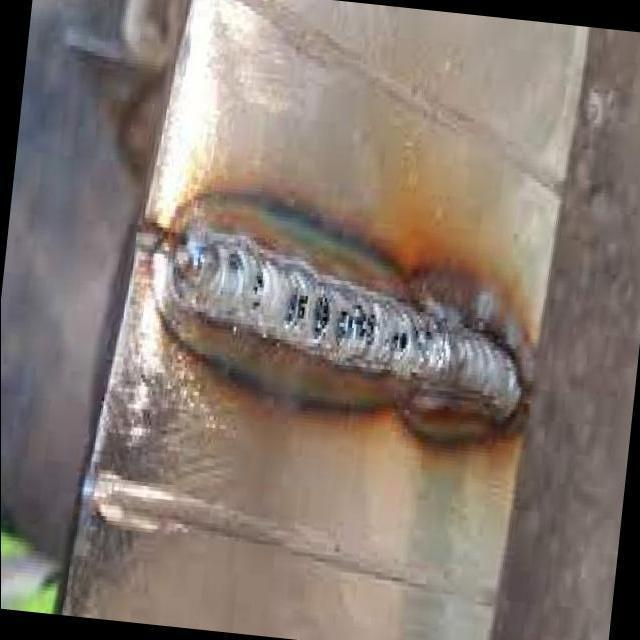defect: (328, 296, 380, 354), (309, 288, 335, 342), (281, 290, 312, 332), (387, 326, 410, 363), (248, 269, 268, 310)
